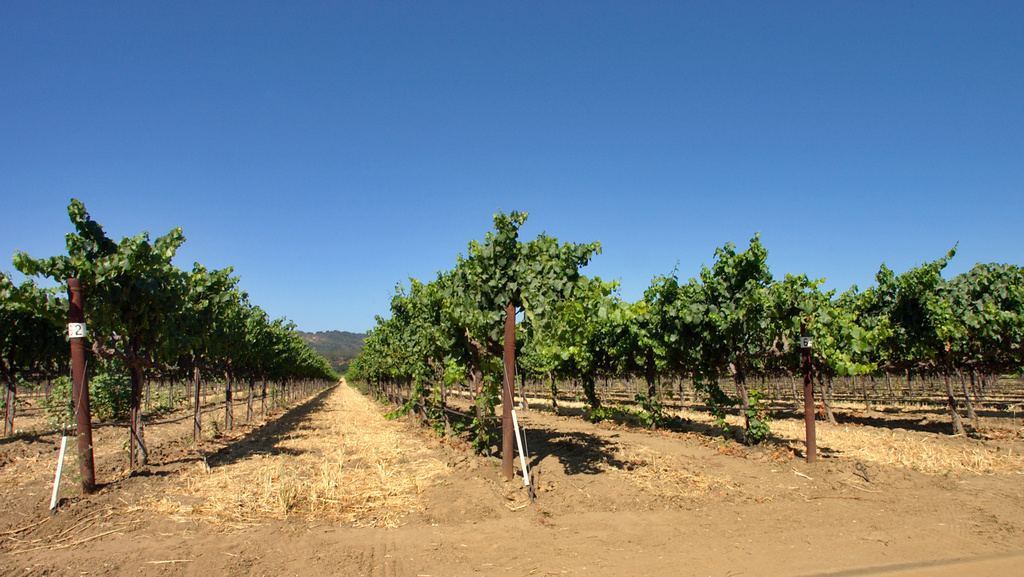Tree: (0, 204, 1023, 485)
